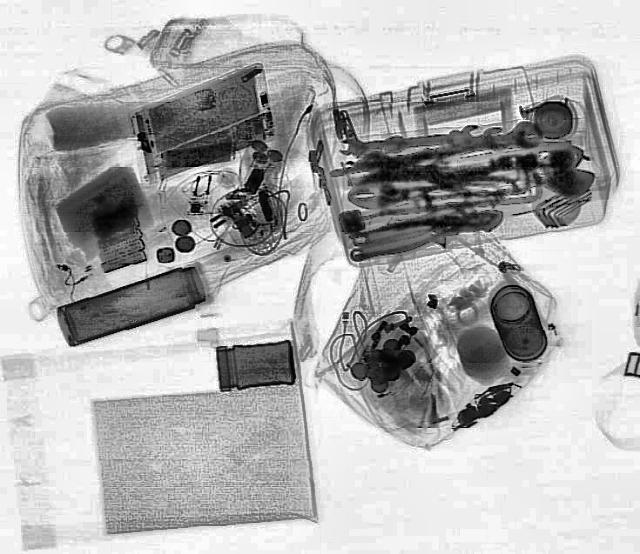Pliers: (343, 200, 507, 262)
Wrench: (336, 122, 482, 156), (424, 123, 508, 165)
